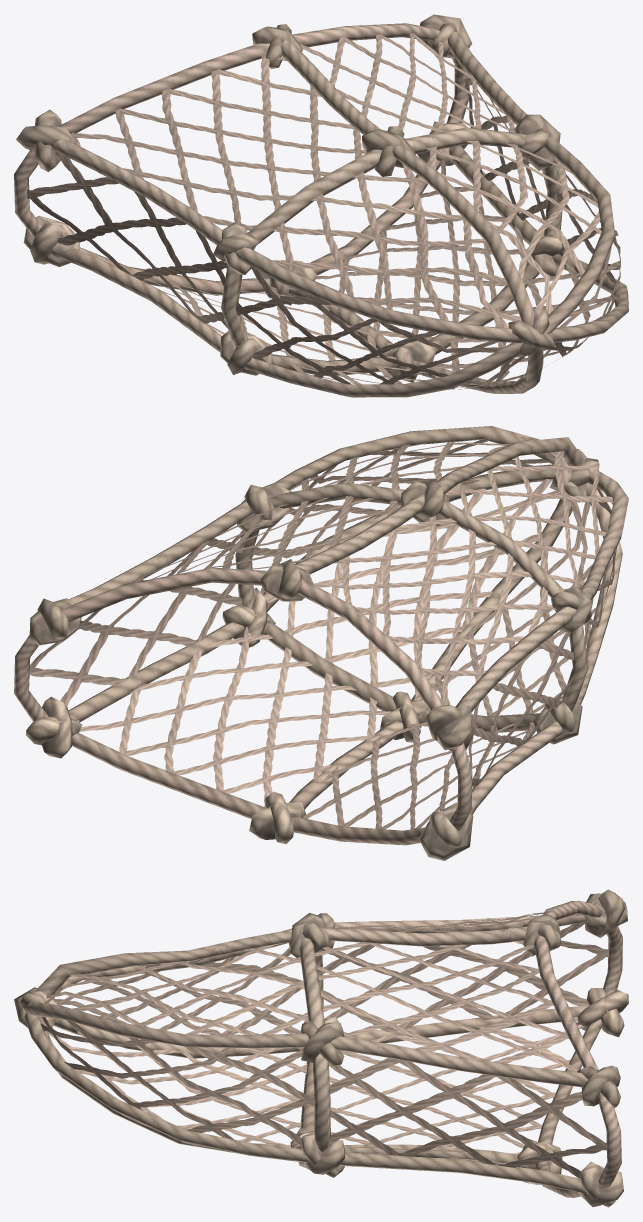
The picture shows the model from 3 angles, top to bottom: view 1: azimuth 30°, elevation 25°; view 2: azimuth 150°, elevation 25°; view 3: azimuth 270°, elevation 25°; orthographic projection. The views are drawn at different scales.
Parts seen in each view (by area): view 1: SM_Fishing_Net_Coarse_LOD0; view 2: SM_Fishing_Net_Coarse_LOD0; view 3: SM_Fishing_Net_Coarse_LOD0.
Part boxes in pixels (bbox=[...]): SM_Fishing_Net_Coarse_LOD0: bbox=[14, 14, 628, 397]; SM_Fishing_Net_Coarse_LOD0: bbox=[14, 426, 628, 860]; SM_Fishing_Net_Coarse_LOD0: bbox=[14, 889, 628, 1207].
Size of the model in its own units: 0.4682 by 0.2739 by 0.5942.
1 material, 1 textured.
